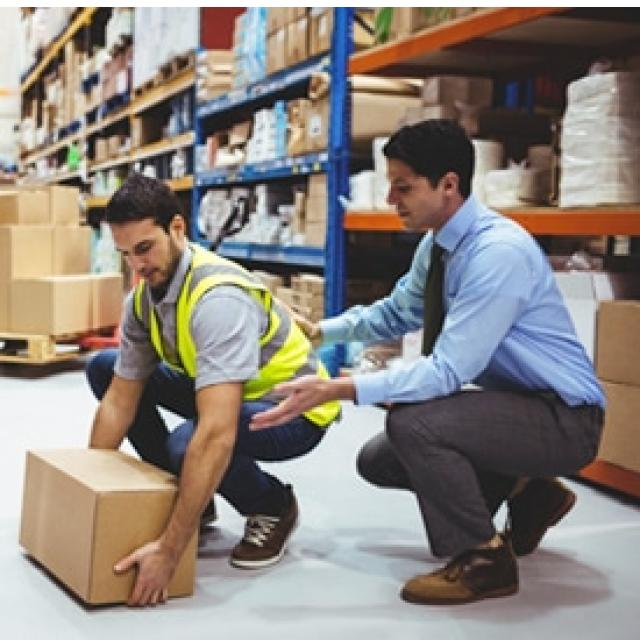vest: (120, 240, 347, 433)
